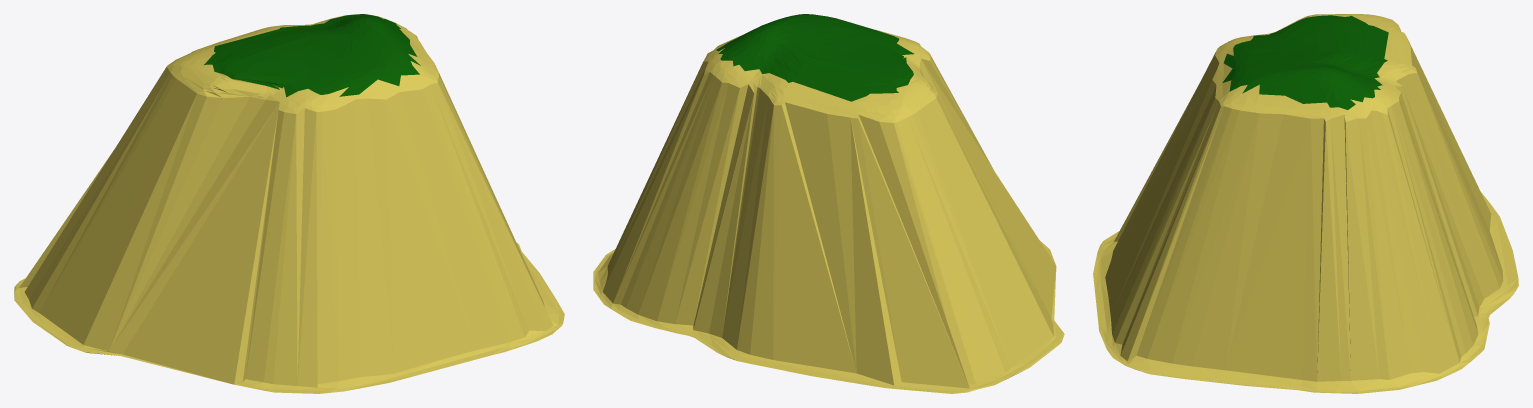
Rendered from Island1.FBX.
3 renders of one model, left to right at view 1: azimuth 30°, elevation 25°; view 2: azimuth 150°, elevation 25°; view 3: azimuth 270°, elevation 25°, orthographic. The views are drawn at different scales.
Visible parts, largest first — view 1: Sphere002; view 2: Sphere002; view 3: Sphere002.
Part boxes in pixels (left/top/right/bottom): Sphere002: left=14, top=14, right=564, bottom=393; Sphere002: left=593, top=14, right=1064, bottom=393; Sphere002: left=1093, top=14, right=1518, bottom=393.
Bounding box in the file's own units: 691 × 374 × 572.
